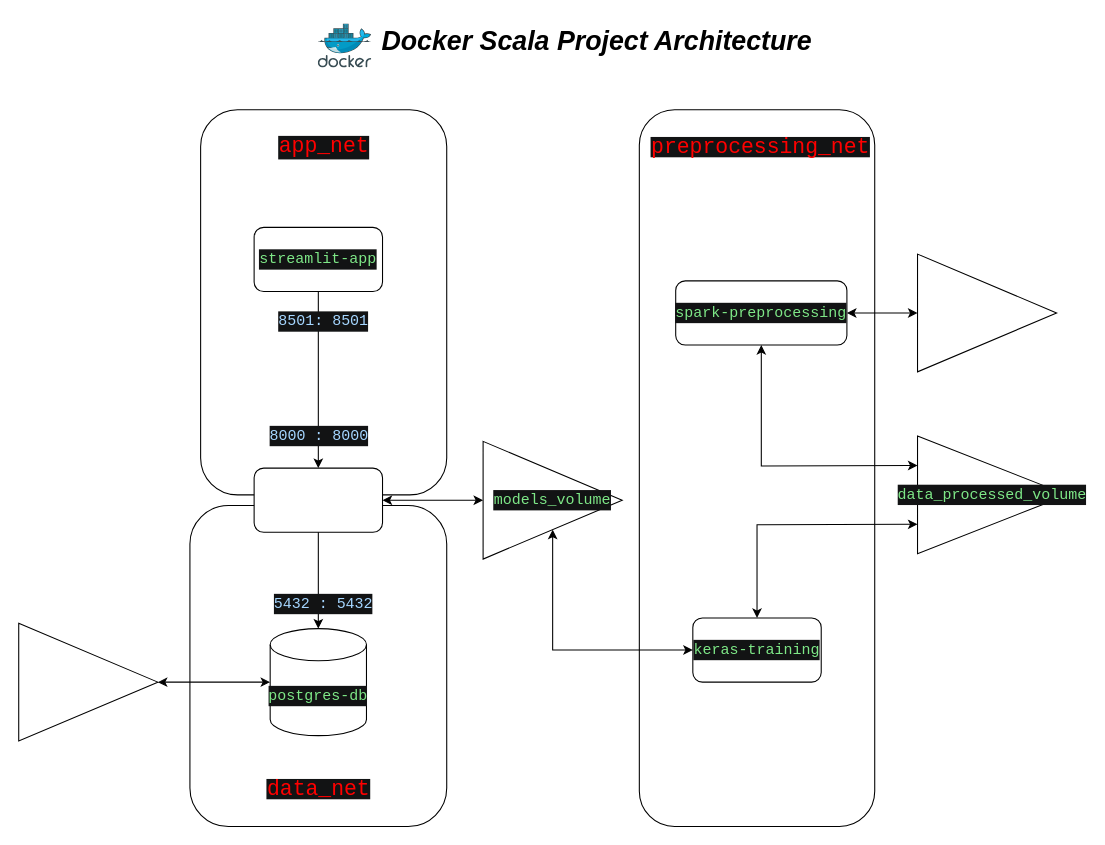
Some shapes in this 1105 by 845 pixel diagram are drawn without their labels. Each missing label, with the centre of its shape:
"api-rest" belongs at point 318,499.
"data_raw_volume" belongs at point 986,312.
"postgres_volume" belongs at point 88,681.
